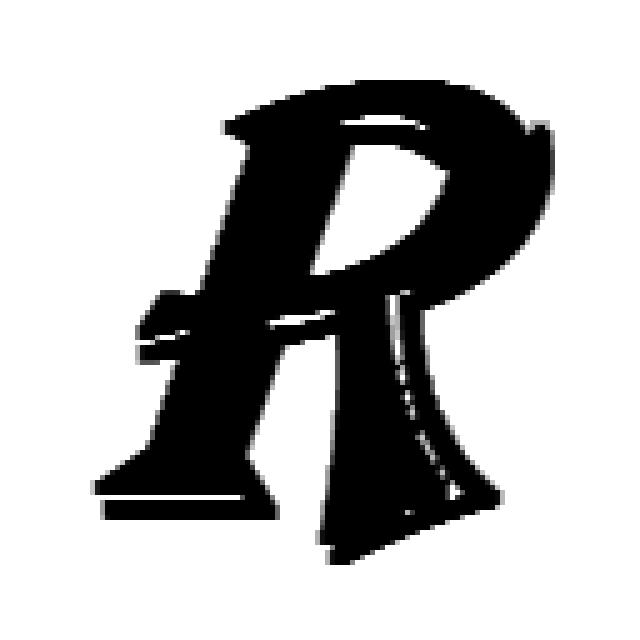R: (90, 80, 555, 570)
